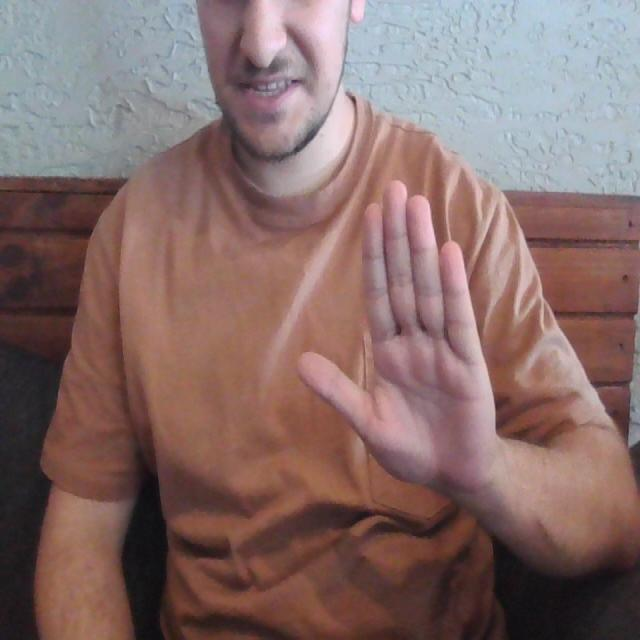Dur: (295, 160, 526, 517)
